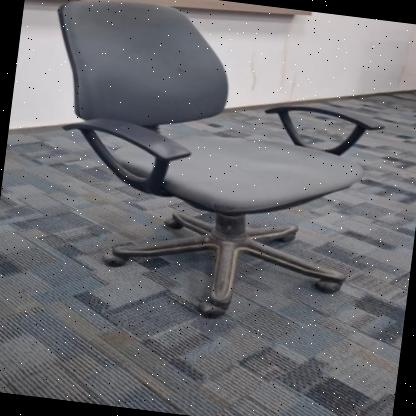chair: (8, 0, 403, 341)
